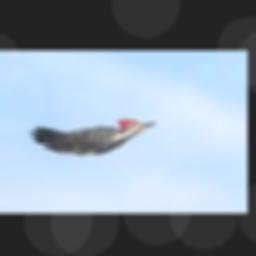Woodpecker: (27, 119, 155, 154)
